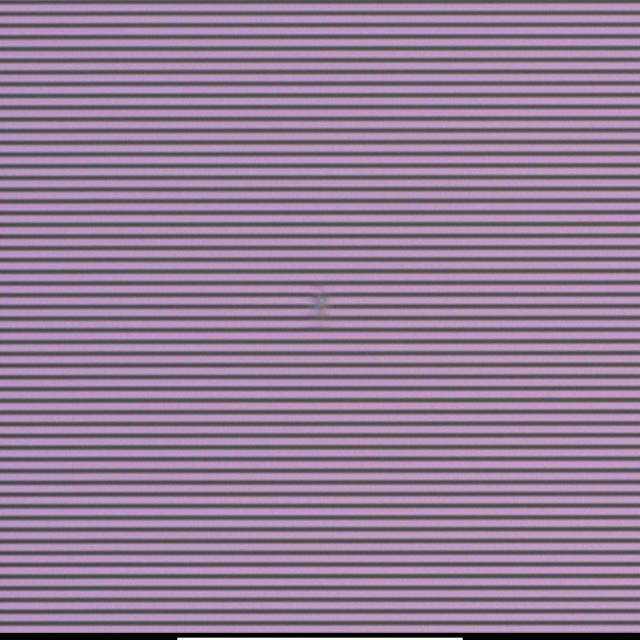nonvisual: (306, 284, 338, 319)
